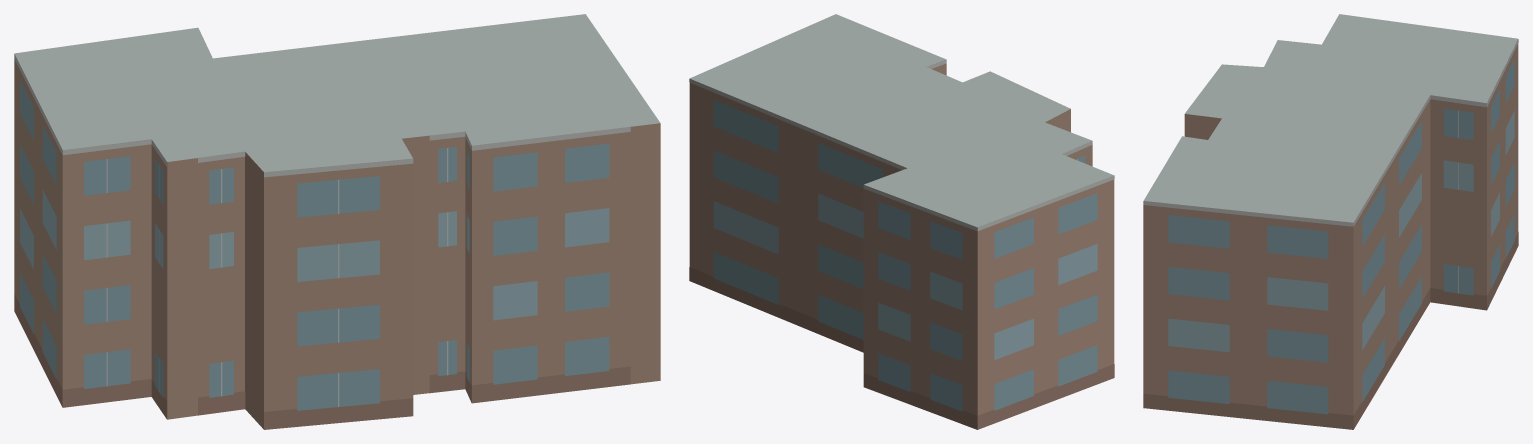
File: survey-upis-32472982.glb
3 views of the same model, side by side, from view 1: azimuth 30°, elevation 25°; view 2: azimuth 150°, elevation 25°; view 3: azimuth 270°, elevation 25° (orthographic). The views are drawn at different scales.
Parts seen in each view (by area): view 1: survey-upis-32472982.tmp; view 2: survey-upis-32472982.tmp; view 3: survey-upis-32472982.tmp.
Part boxes in pixels (<box>): survey-upis-32472982.tmp: <box>14,14,660,429</box>; survey-upis-32472982.tmp: <box>689,14,1114,429</box>; survey-upis-32472982.tmp: <box>1143,14,1518,429</box>.
Bounding box in the file's own units: 26.8 × 12.4 × 20.35.
